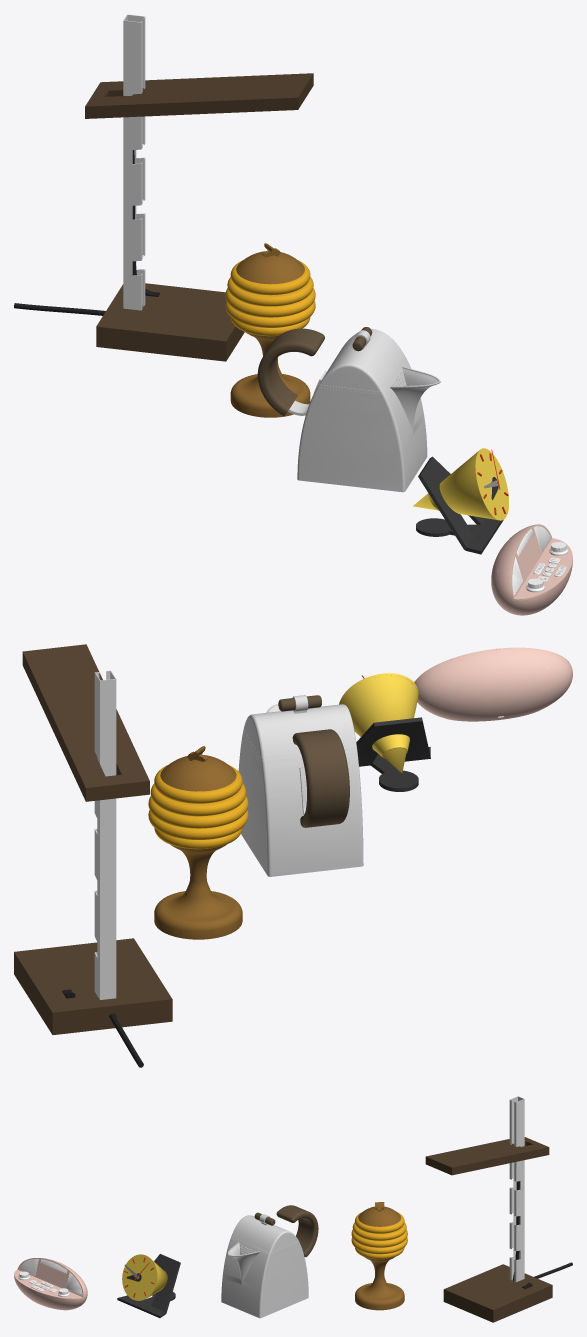
File: sculpture_09.glb
3 views of the same model, one above another, from view 1: azimuth 30°, elevation 25°; view 2: azimuth 150°, elevation 25°; view 3: azimuth 270°, elevation 25° (orthographic). The views are drawn at different scales.
Parts seen in each view (by area): view 1: SCL_07; view 2: SCL_07; view 3: SCL_07.
Boxes of the visible parts, x1=… form: SCL_07: x1=14, y1=14, x2=572, y2=615; SCL_07: x1=14, y1=644, x2=572, y2=1067; SCL_07: x1=14, y1=1096, x2=572, y2=1322.
Size of the model in its own units: 0.3163 by 0.4576 by 1.2.
